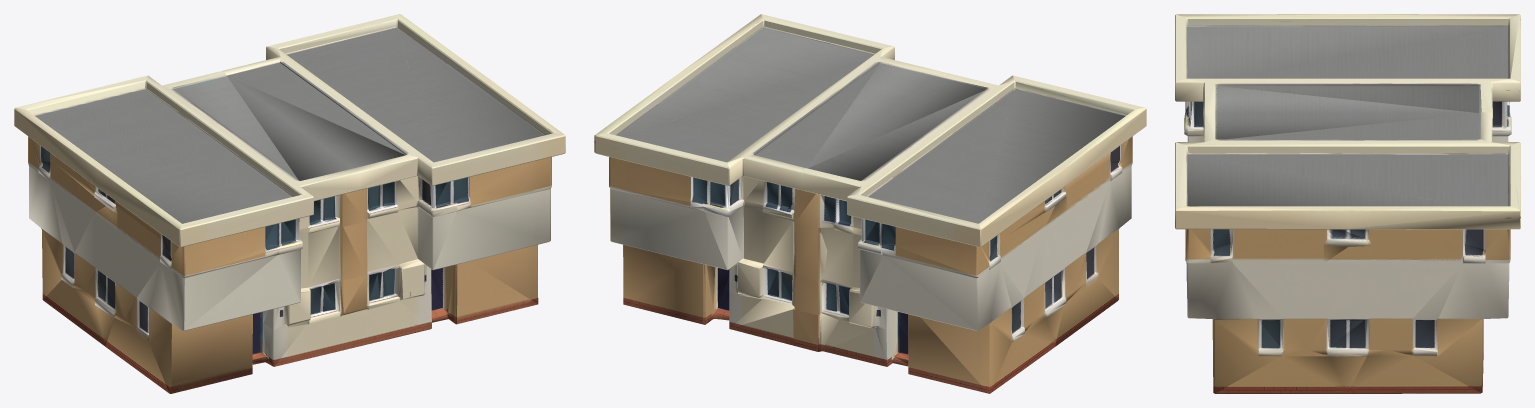
Rendered from placed_bld_556855841.glb.
The picture shows the model from 3 angles, left to right: view 1: azimuth 30°, elevation 25°; view 2: azimuth 150°, elevation 25°; view 3: azimuth 270°, elevation 25°; orthographic projection. The views are drawn at different scales.
Visible parts, largest first — view 1: bld_556855841; view 2: bld_556855841; view 3: bld_556855841.
Boxes of the visible parts, left/top/right/bottom form: bld_556855841: left=14, top=14, right=565, bottom=393; bld_556855841: left=594, top=14, right=1146, bottom=393; bld_556855841: left=1175, top=14, right=1520, bottom=393.
Size of the model in its own units: 15.21 by 6.8 by 11.29.
Materials: 1 (1 with a texture image).
